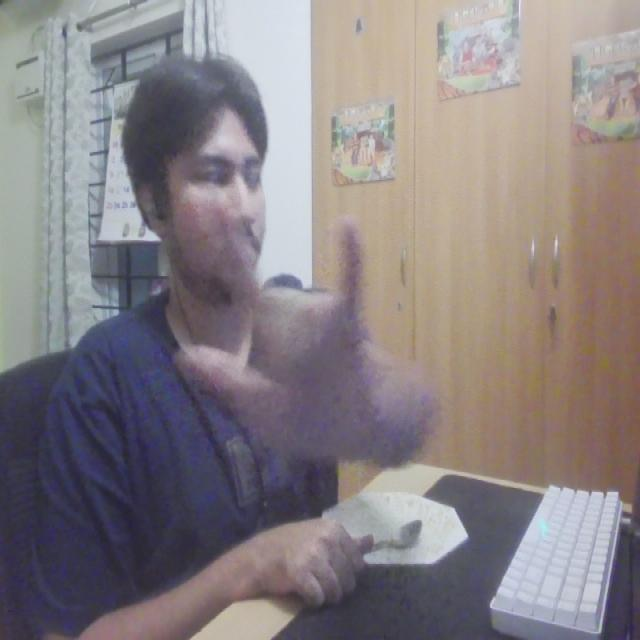iloveyou: (183, 183, 392, 481)
